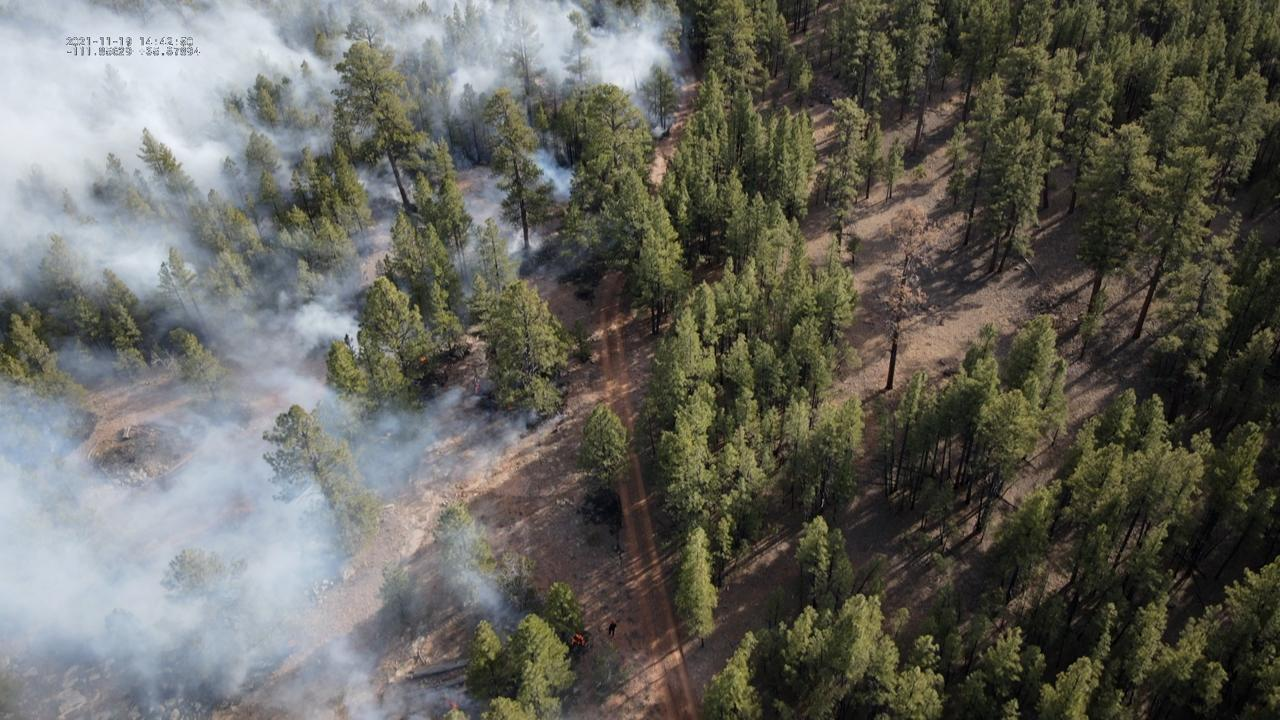fire: (572, 633, 586, 647), (473, 383, 480, 394), (419, 356, 427, 363)
smoke: (0, 0, 678, 720)
